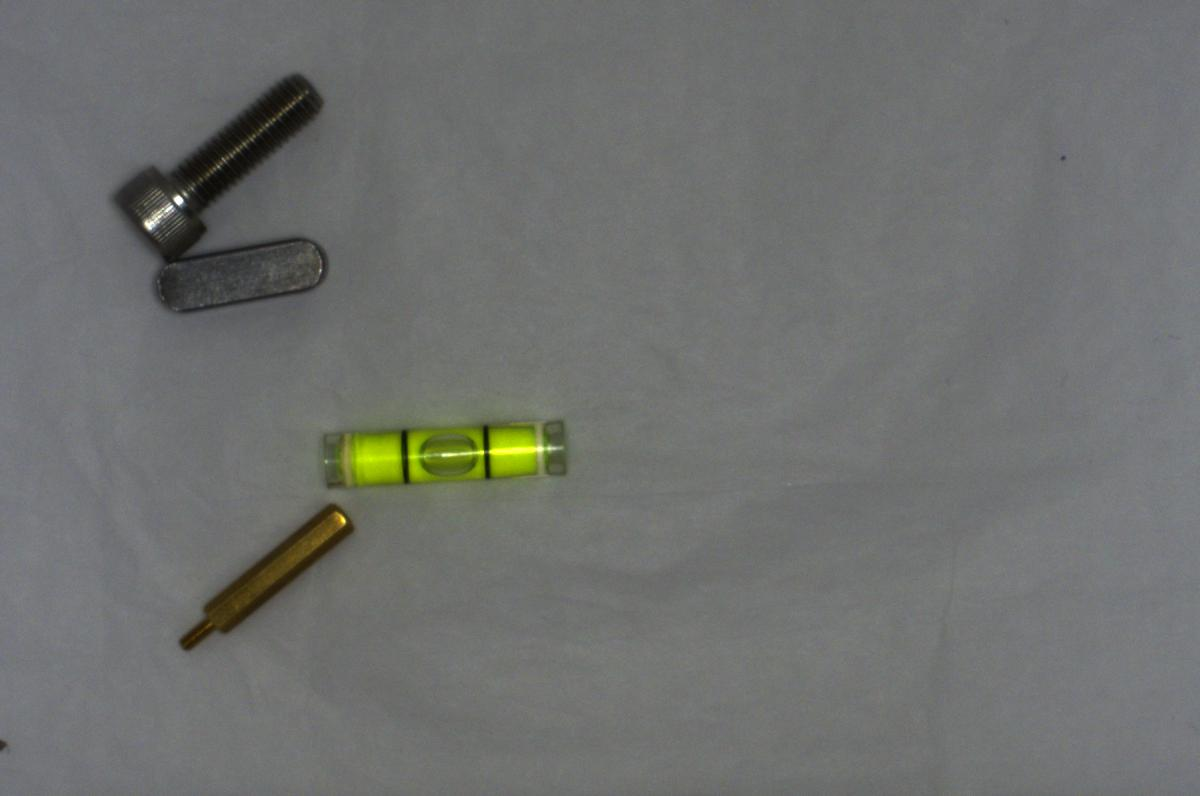Hexagon pillar: (168, 498, 355, 658)
Hexagon screw: (114, 67, 331, 252)
Horizontal bubble: (311, 407, 577, 498)
Keybar: (148, 234, 331, 322)
